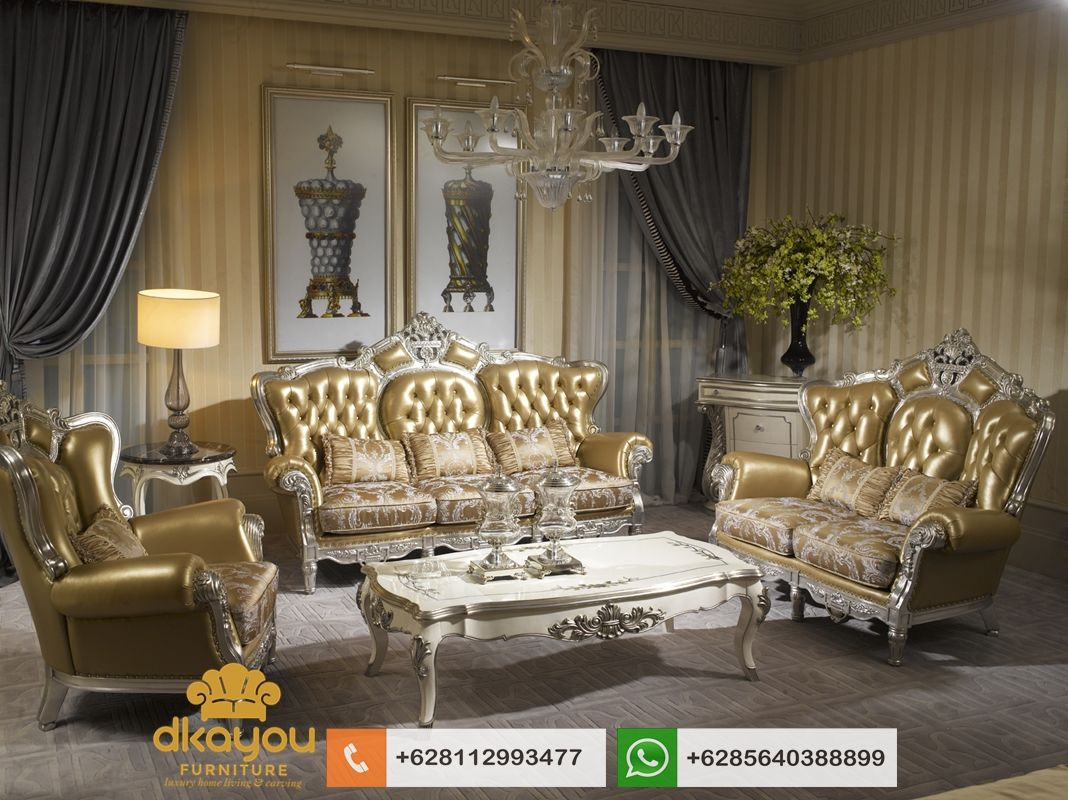bantal: (493, 424, 579, 475), (811, 451, 879, 508), (408, 431, 491, 477), (323, 437, 407, 482), (896, 467, 953, 522)
lampu: (134, 278, 226, 450)
lukisan: (267, 88, 390, 349), (407, 100, 530, 361)
meja: (354, 531, 776, 720)
sova: (707, 343, 1059, 661), (3, 406, 284, 731), (251, 346, 666, 534)
tanaman: (738, 218, 887, 378)
